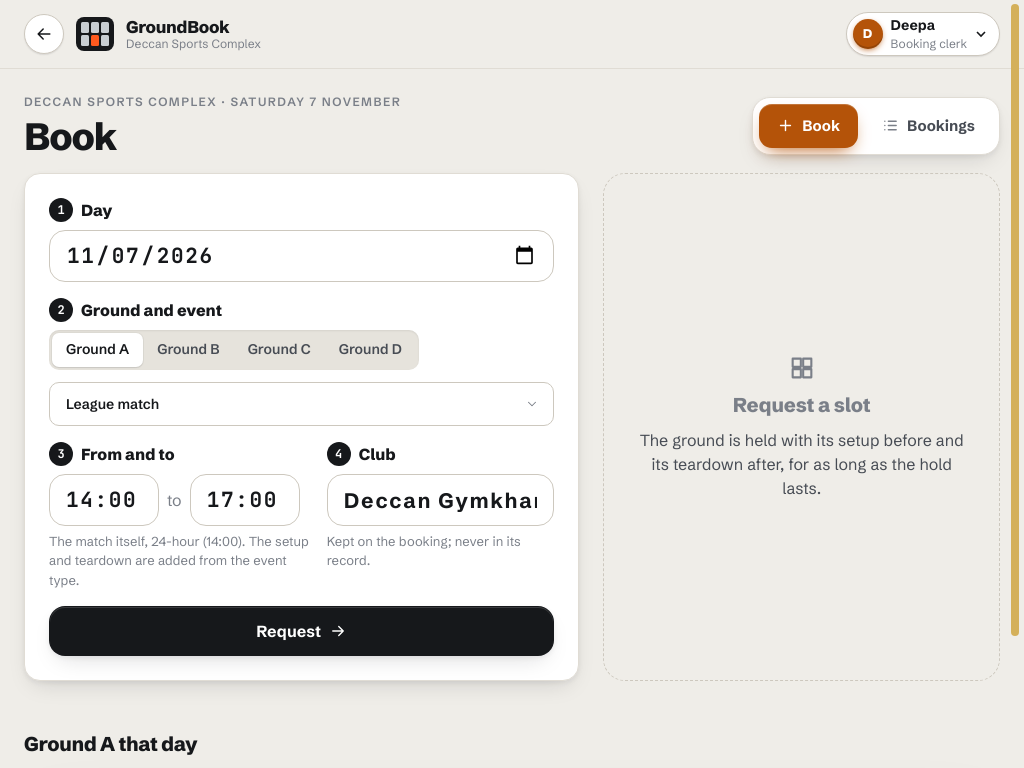
Test: F-07 · When the day says no › Practice 17:00–18:00 next to BK0001 is refused: "With the buffers, it clashes", naming BK0001 held 13:20–17:30
This screenshot has width=1024, height=768.
Expected: the button "Ground A" is shown, [52,333,143,367]
Expected: the text "League match" is shown, [66,395,159,413]
Click the button with aria-label "Event type" at [113, 404], box [49,382,554,426]
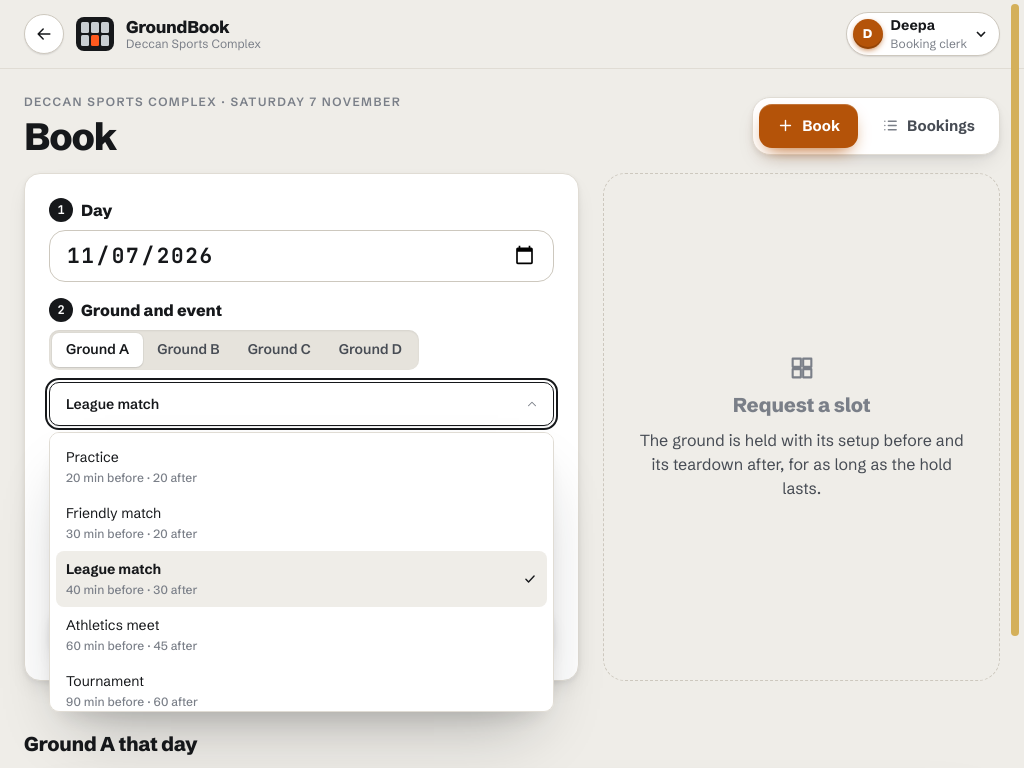
Click the option "Practice 20 min before · 20 after" at [92, 457], box [66,448,197,485]
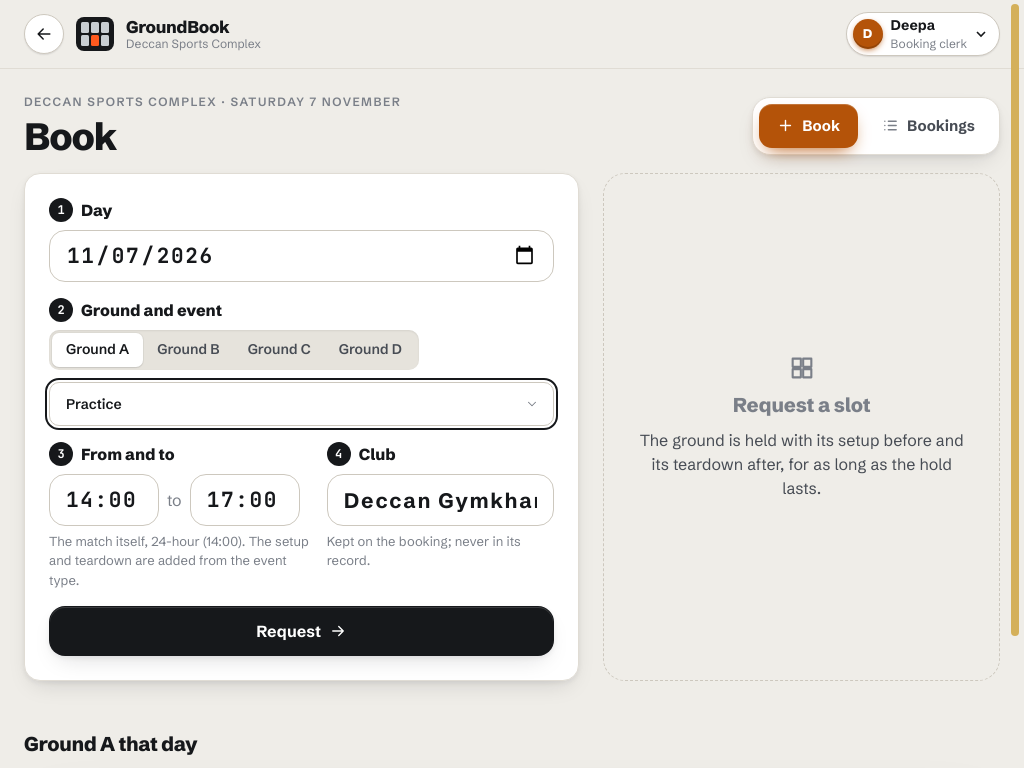
Type "17:00" into the field named "From" at [104, 500], box [50,475,158,525]
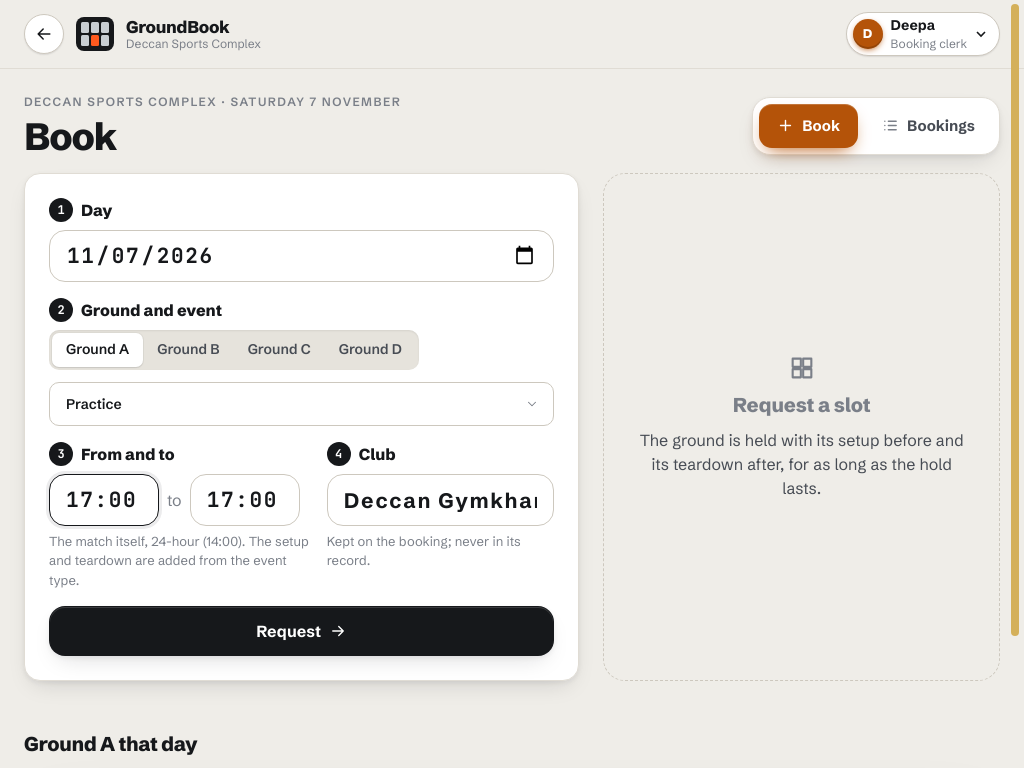
Type "18:00" into the field named "To" at [245, 500], box [191,475,299,525]
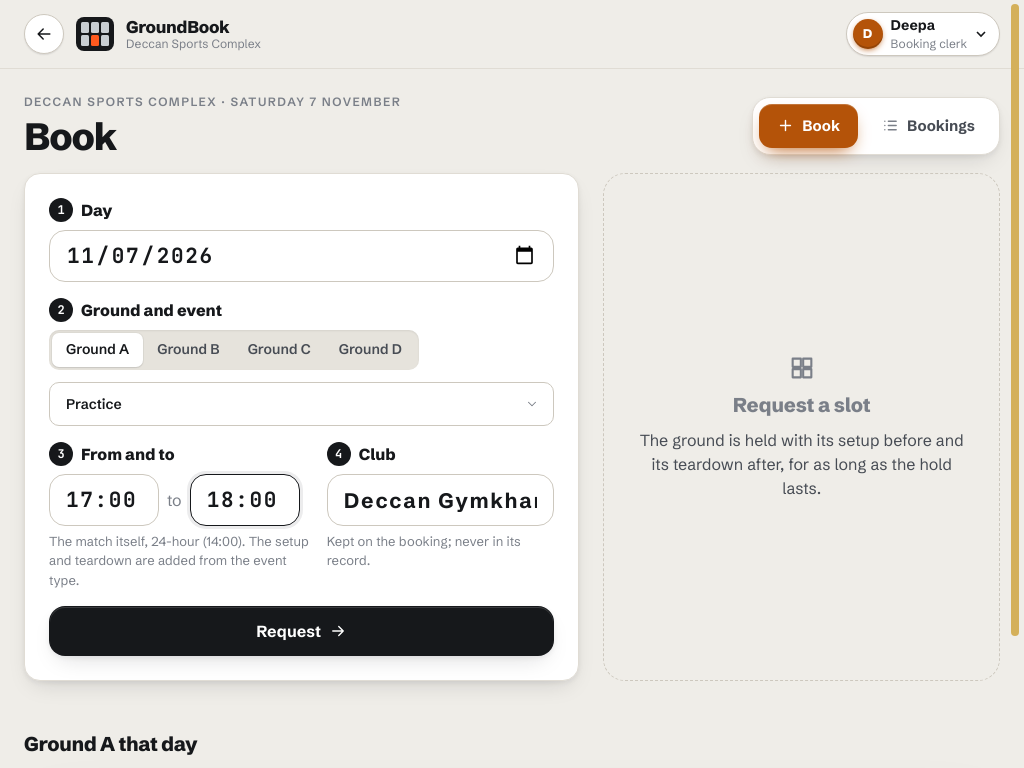
Click the button "Request" at [302, 631], box [49,606,554,656]
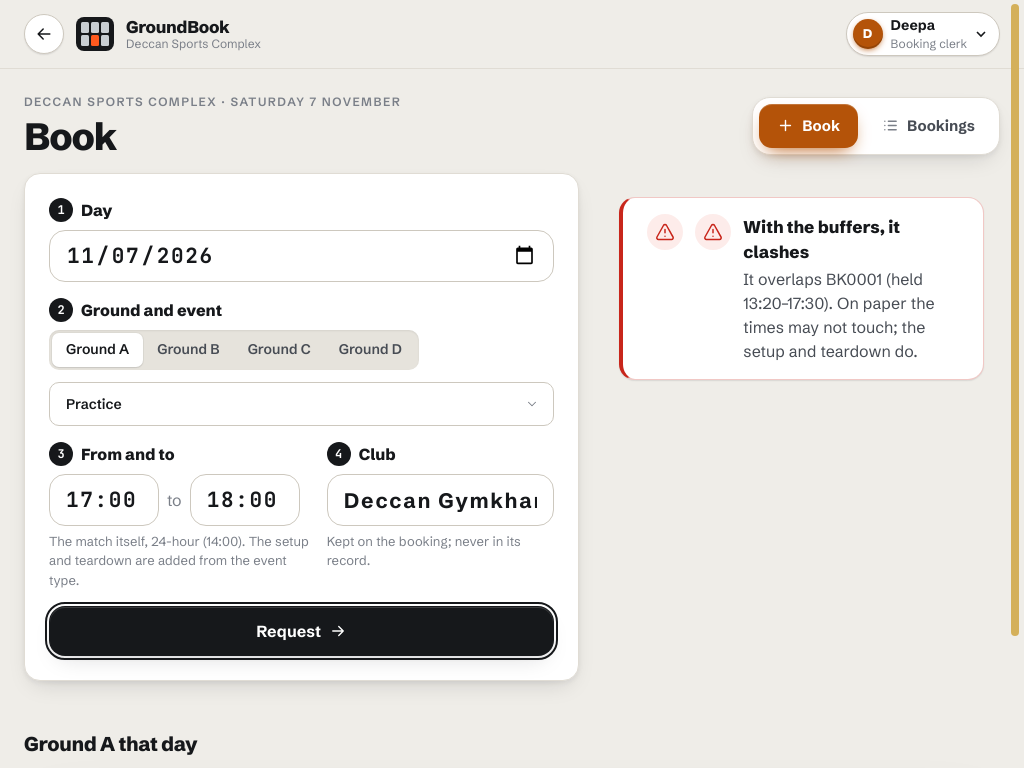
Result: the text "With the buffers, it clashes" is shown at [743,216,900,262]
Result: the text "It overlaps BK0001 (held 13:20–17:30). On paper the times may not touch; the setup and teardown do." is shown at [743,269,935,361]
